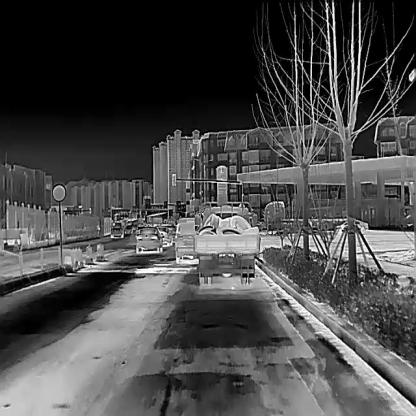car: (173, 212, 200, 265), (135, 225, 163, 254), (334, 215, 370, 235), (154, 224, 173, 247), (108, 221, 124, 239), (165, 223, 177, 240), (123, 223, 134, 234)
truck: (191, 200, 260, 284), (259, 198, 346, 233)
